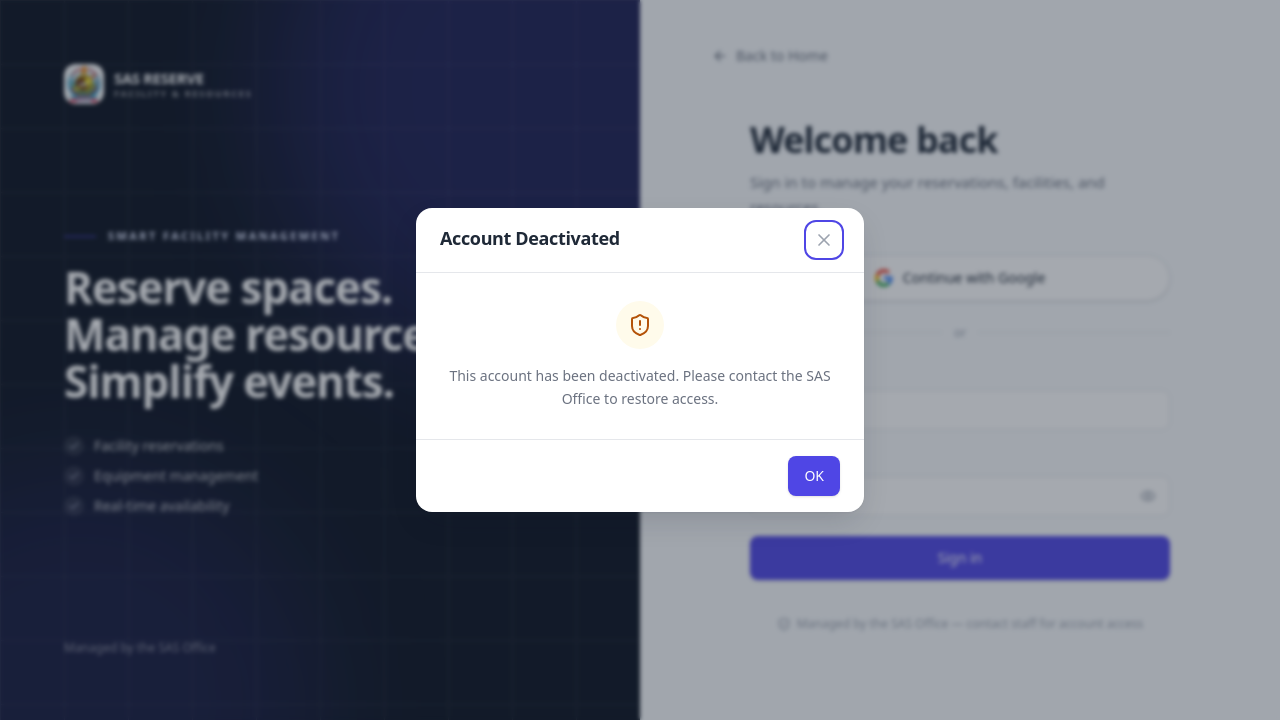
LoginPage — deactivated account modal › OK dismisses the modal and scrubs the google_error parameter
The width and height of the screenshot is (1280, 720).
Step 1. Click the button "OK" → x=814, y=476, box x1=788 y1=456 x2=840 y2=496
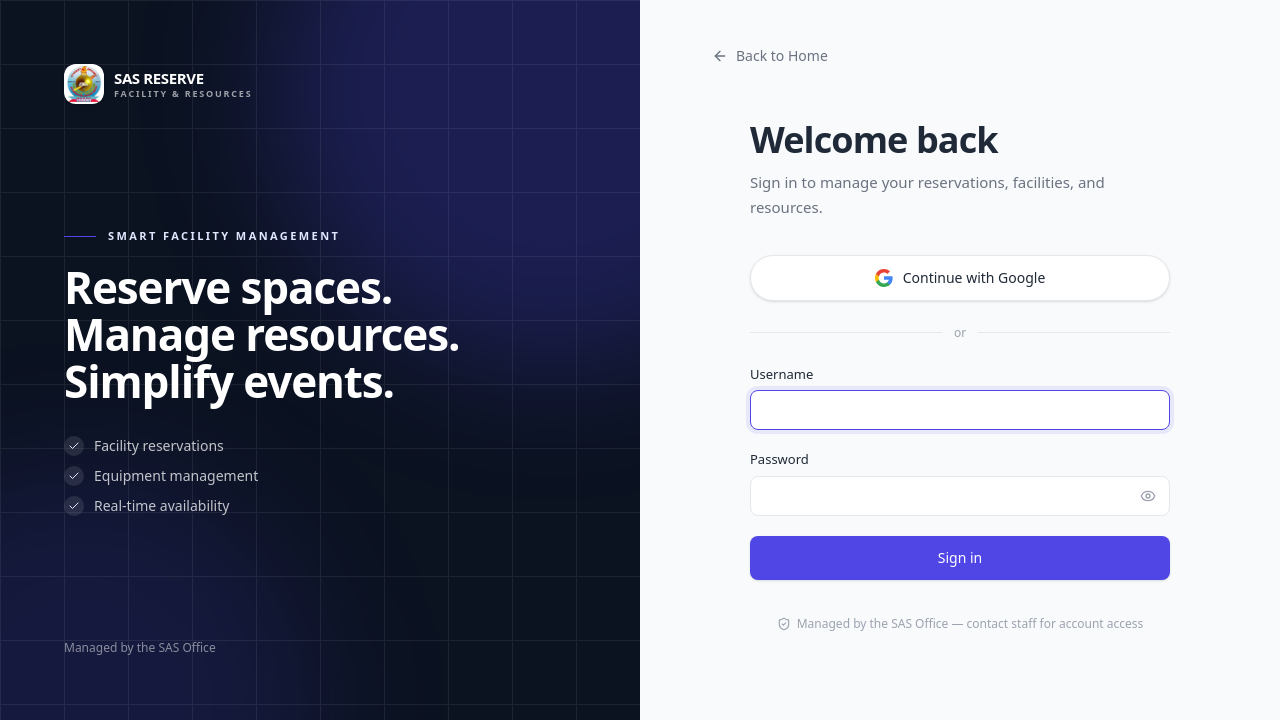
Check: the heading "Account Deactivated" is gone
Check: the text "Deactivated" is gone
